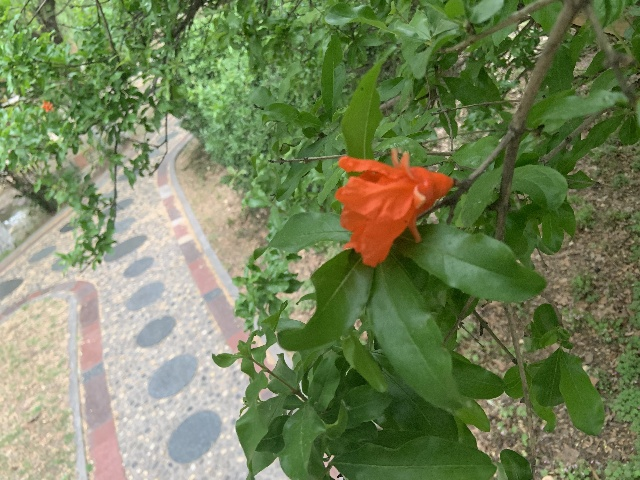flower: (334, 147, 453, 267), (41, 100, 53, 112)
